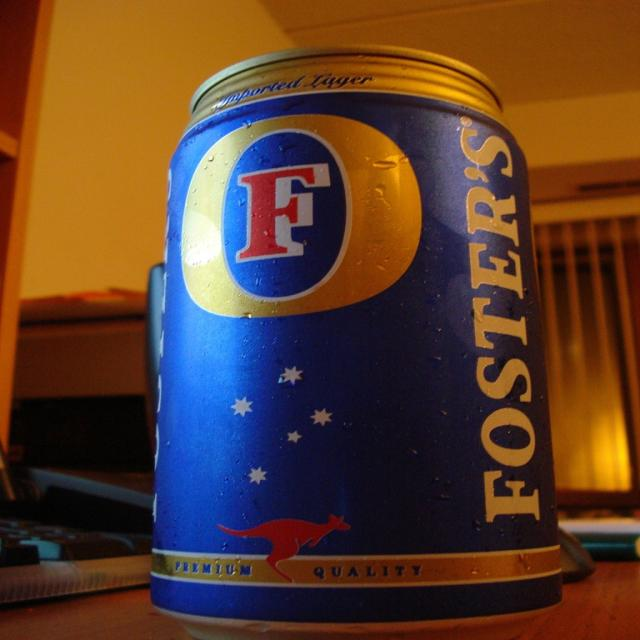fosters: (177, 110, 426, 324)
